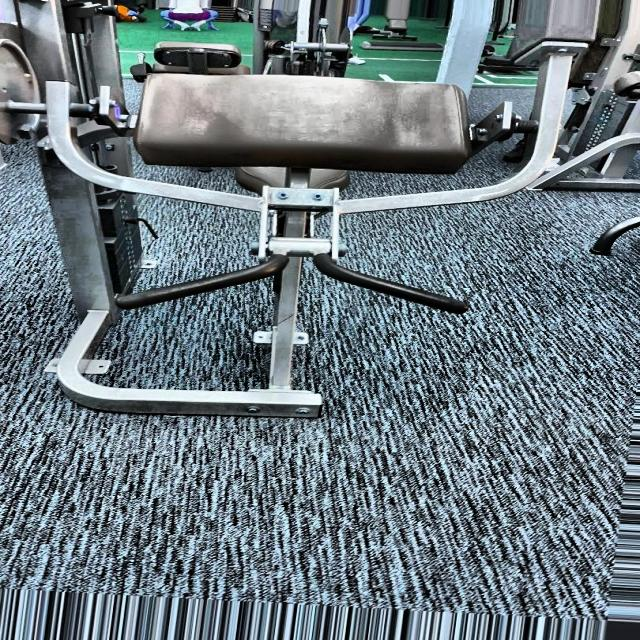bicep_curl_machine: (45, 28, 580, 444)
